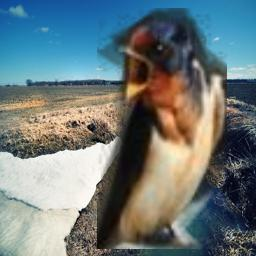Swallow: (97, 8, 227, 249)
